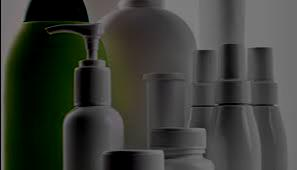Plastic: (41, 22, 124, 148)
